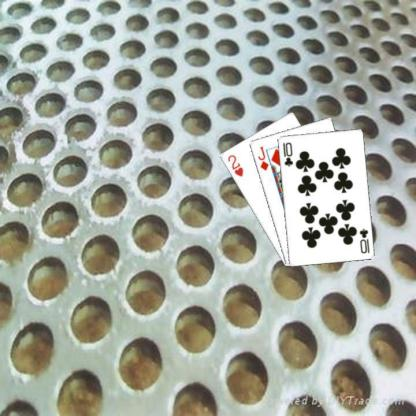10C: (280, 139, 294, 168), (357, 226, 370, 254)
2H: (225, 152, 244, 178)
JD: (255, 144, 270, 171)
